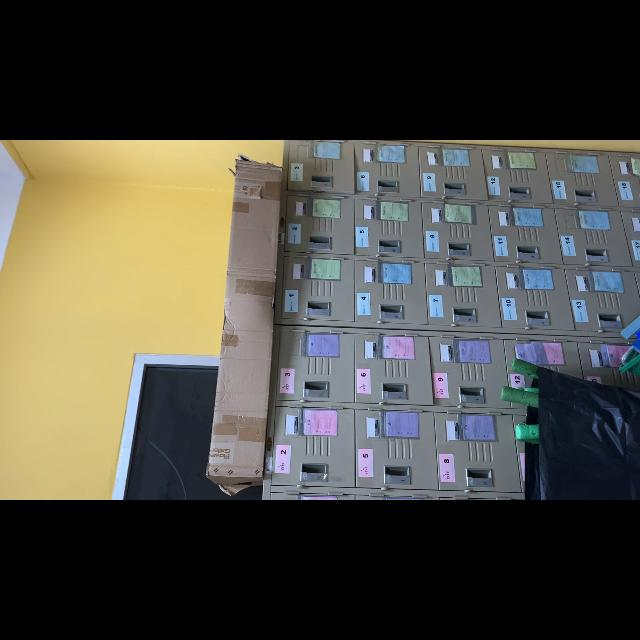cardboard_box: (206, 156, 286, 497)
